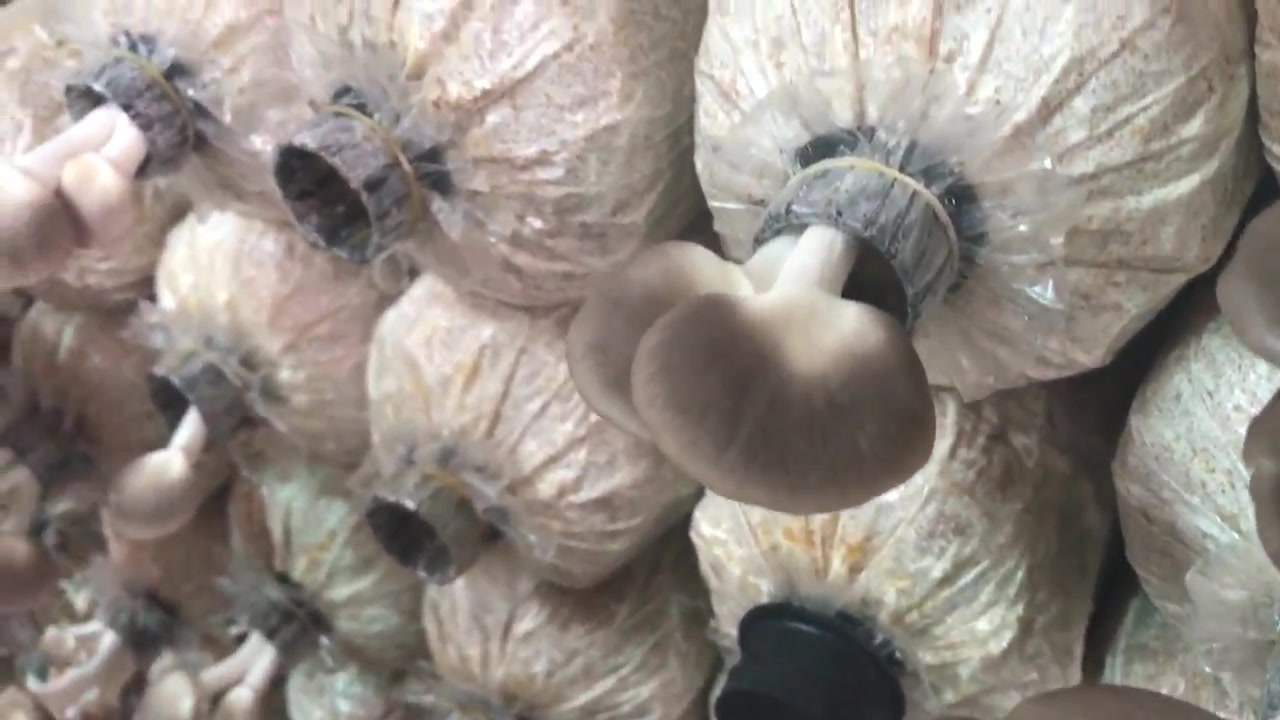nam: (564, 166, 953, 516), (1, 46, 178, 286), (106, 334, 243, 543), (142, 584, 316, 720), (32, 585, 163, 720)
